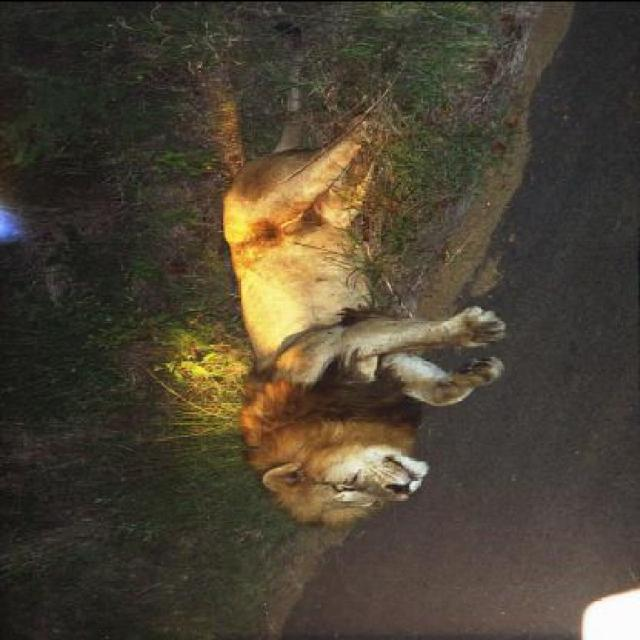Lion: (212, 92, 538, 532)
